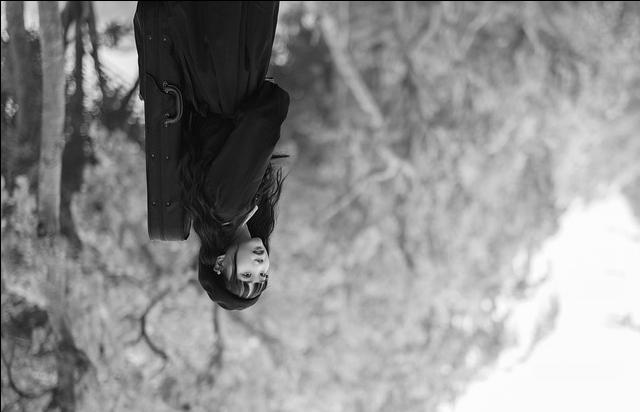Non_Gorille: (69, 0, 342, 349)
